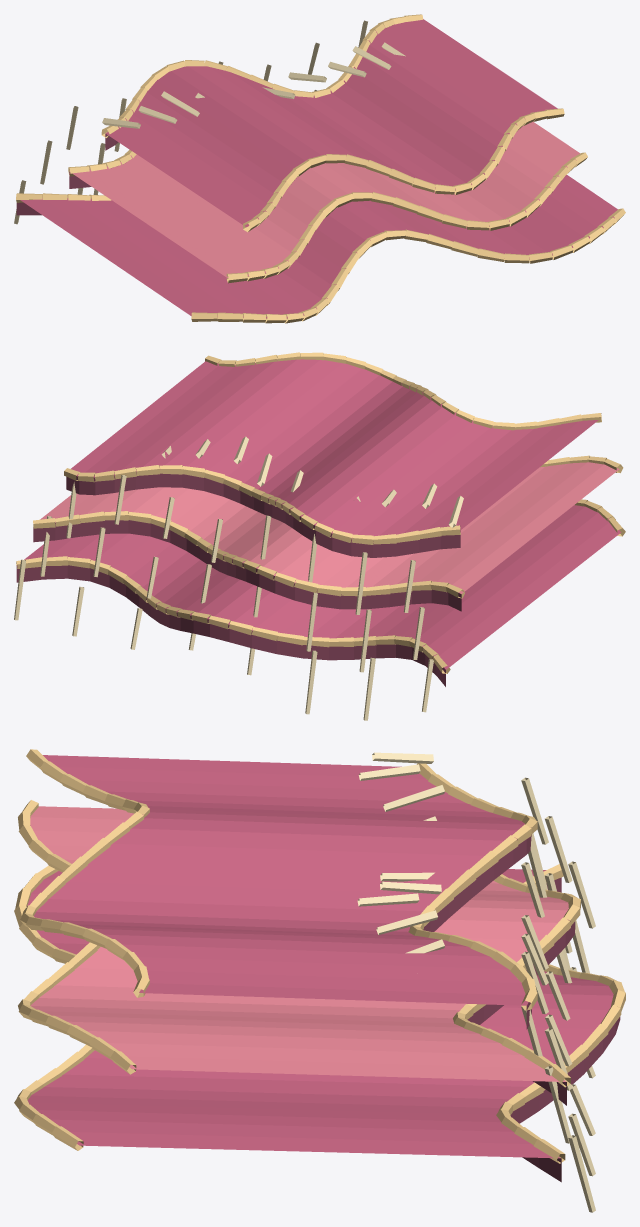
Rendered from silk.glb.
3 renders of one model, top to bottom at view 1: azimuth 30°, elevation 25°; view 2: azimuth 150°, elevation 25°; view 3: azimuth 270°, elevation 25°, orthographic. The views are drawn at different scales.
Visible parts, largest first — view 1: silk_trade_good; view 2: silk_trade_good; view 3: silk_trade_good.
Part boxes in pixels (box(x1,y1,x2,y2)): silk_trade_good: box(14, 14, 625, 323); silk_trade_good: box(14, 352, 625, 720); silk_trade_good: box(14, 749, 625, 1212).
Bounding box in the file's own units: 1.17 × 0.4786 × 1.04.
